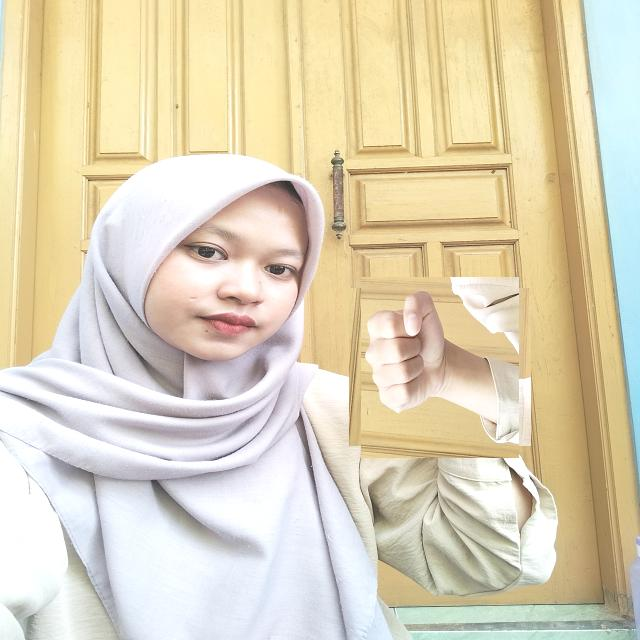baik: (355, 282, 525, 452)
